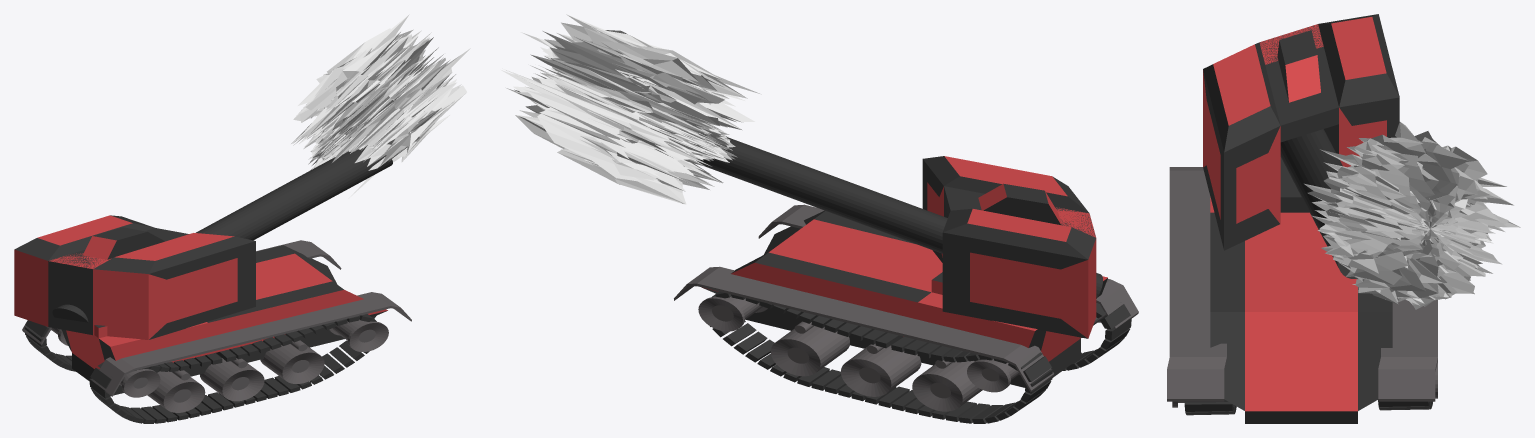
Rendered from red artyllllllll.fbx.
3 views of the same model, side by side, from view 1: azimuth 30°, elevation 25°; view 2: azimuth 150°, elevation 25°; view 3: azimuth 270°, elevation 25° (orthographic). The views are drawn at different scales.
Visible parts, largest first — view 1: Cube.003, Cylinder.001, Cube, Cube.000, Cylinder, Cube.002, Cylinder.025, Cylinder.011, Cylinder.023, Cylinder.022, Cylinder.021, Cube.001; view 2: Cylinder.001, Cube.003, Cube, Cube.002, Cube.001, Cylinder, Cylinder.000, Cylinder.002, Cylinder.014, Cylinder.003, Cube.000, Cylinder.004; view 3: Cube, Cube.003, Cylinder.001, Cube.002, Cylinder, Cube.000, Cube.001.
Boxes of the visible parts, x1,y1,x2,y2 form: Cube.003: [14, 215, 255, 339]; Cylinder.001: [290, 14, 470, 198]; Cube: [61, 245, 387, 395]; Cube.000: [89, 314, 376, 423]; Cylinder: [52, 145, 392, 322]; Cube.002: [22, 240, 411, 396]; Cylinder.025: [200, 358, 264, 401]; Cylinder.011: [260, 344, 324, 383]; Cylinder.023: [147, 371, 205, 412]; Cylinder.022: [329, 319, 388, 351]; Cylinder.021: [120, 369, 160, 397]; Cube.001: [24, 320, 75, 371]; Cylinder.001: [501, 14, 761, 204]; Cube.003: [922, 156, 1096, 338]; Cube: [702, 210, 1107, 387]; Cube.002: [674, 204, 1138, 392]; Cube.001: [710, 291, 1052, 423]; Cylinder: [696, 136, 1102, 298]; Cylinder.000: [841, 345, 921, 396]; Cylinder.002: [770, 326, 849, 376]; Cylinder.014: [912, 361, 982, 411]; Cylinder.003: [698, 296, 767, 331]; Cube.000: [1063, 303, 1131, 370]; Cylinder.004: [967, 359, 1019, 392]; Cube: [1210, 157, 1392, 423]; Cube.003: [1203, 14, 1399, 250]; Cylinder.001: [1304, 122, 1520, 309]; Cube.002: [1167, 167, 1437, 401]; Cylinder: [1280, 129, 1357, 278]; Cube.000: [1184, 399, 1236, 415]; Cube.001: [1378, 400, 1432, 410].
Bounding box in the file's own units: 1244 × 665 × 548.
